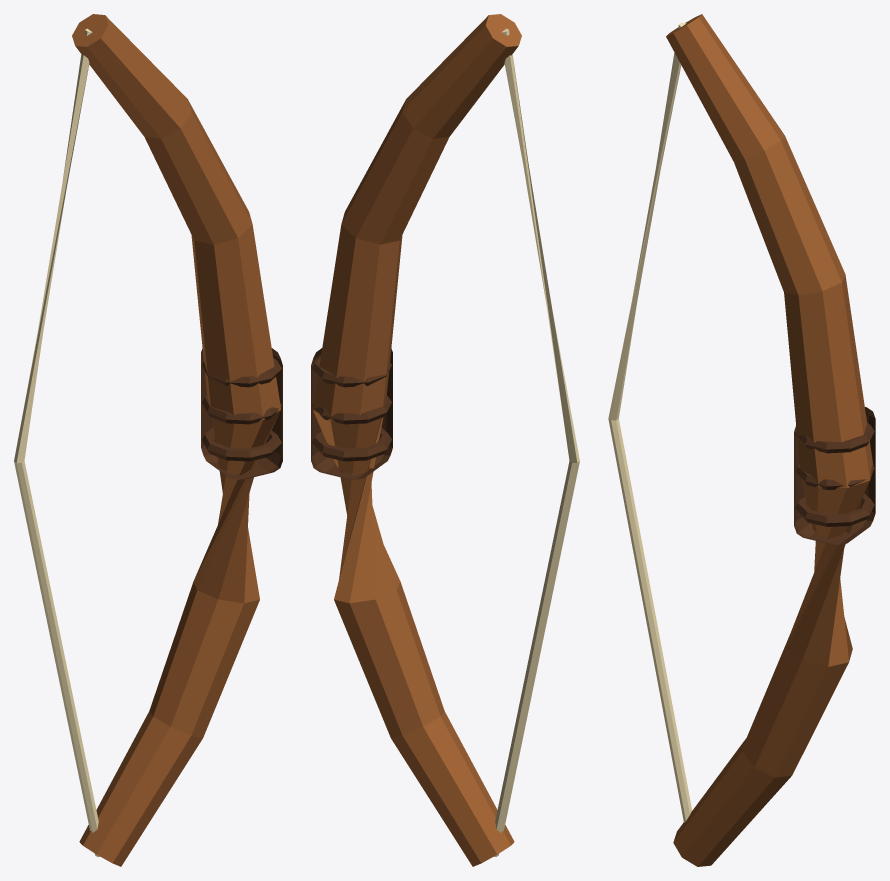
Rendered from bow.glb.
3 renders of one model, left to right at view 1: azimuth 30°, elevation 25°; view 2: azimuth 150°, elevation 25°; view 3: azimuth 330°, elevation 25°, orthographic.
Parts seen in each view (by area): view 1: Curved wooden bow, Bowstring, Bow grip, Woodland equipment worn binding, Woodland equipment worn binding.001, Woodland equipment worn binding.002; view 2: Curved wooden bow, Bowstring, Bow grip, Woodland equipment worn binding, Woodland equipment worn binding.001, Woodland equipment worn binding.002; view 3: Curved wooden bow, Bowstring, Bow grip, Woodland equipment worn binding, Woodland equipment worn binding.002, Woodland equipment worn binding.001.
Boxes of the visible parts, x1,y1,x2,y2 form: Curved wooden bow: [72, 14, 281, 866]; Bowstring: [14, 28, 99, 856]; Bow grip: [201, 348, 282, 479]; Woodland equipment worn binding: [202, 427, 281, 461]; Woodland equipment worn binding.001: [202, 395, 281, 424]; Woodland equipment worn binding.002: [202, 358, 281, 387]; Curved wooden bow: [312, 14, 521, 866]; Bowstring: [494, 28, 579, 856]; Bow grip: [311, 348, 392, 479]; Woodland equipment worn binding: [312, 428, 391, 461]; Woodland equipment worn binding.001: [312, 395, 391, 424]; Woodland equipment worn binding.002: [312, 358, 391, 387]; Curved wooden bow: [666, 14, 873, 866]; Bowstring: [608, 22, 692, 822]; Bow grip: [794, 407, 875, 545]; Woodland equipment worn binding: [795, 493, 874, 526]; Woodland equipment worn binding.002: [795, 422, 874, 453]; Woodland equipment worn binding.001: [795, 464, 874, 489].
Bounding box in the file's own units: 0.5178 × 1.61 × 0.1312.
